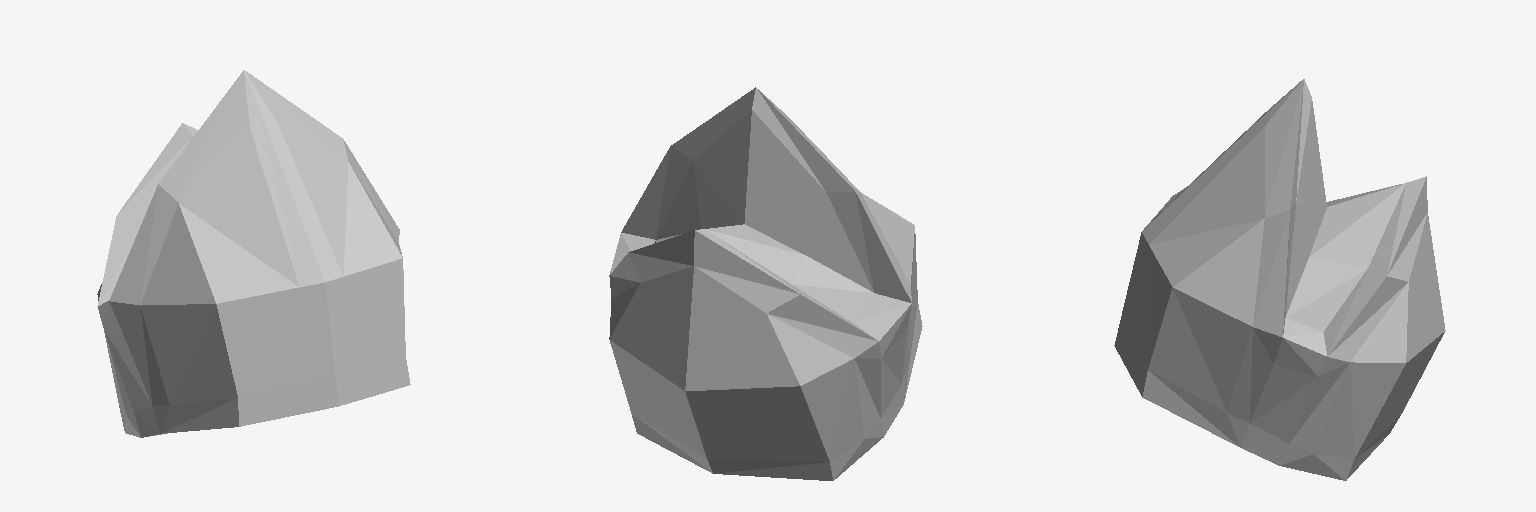
File: SM_Chr_Attach_Priest_Hat_01.obj
The picture shows the model from 3 angles: view 1: azimuth 30°, elevation 25°; view 2: azimuth 150°, elevation 25°; view 3: azimuth 270°, elevation 25°; orthographic projection.
Visible parts, largest first — view 1: SM_Chr_Attach_Priest_Hat_01; view 2: SM_Chr_Attach_Priest_Hat_01; view 3: SM_Chr_Attach_Priest_Hat_01.
Part boxes in pixels (x1,y1,x2,y2): SM_Chr_Attach_Priest_Hat_01: (97, 70, 410, 437); SM_Chr_Attach_Priest_Hat_01: (609, 87, 922, 480); SM_Chr_Attach_Priest_Hat_01: (1114, 79, 1445, 480).
Bounding box in the file's own units: 34.52 × 40.28 × 34.04.